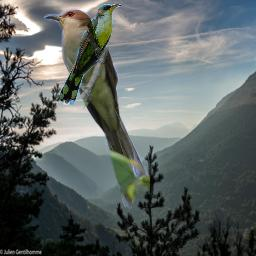Cuckoo: (44, 8, 150, 209), (59, 4, 121, 105)
